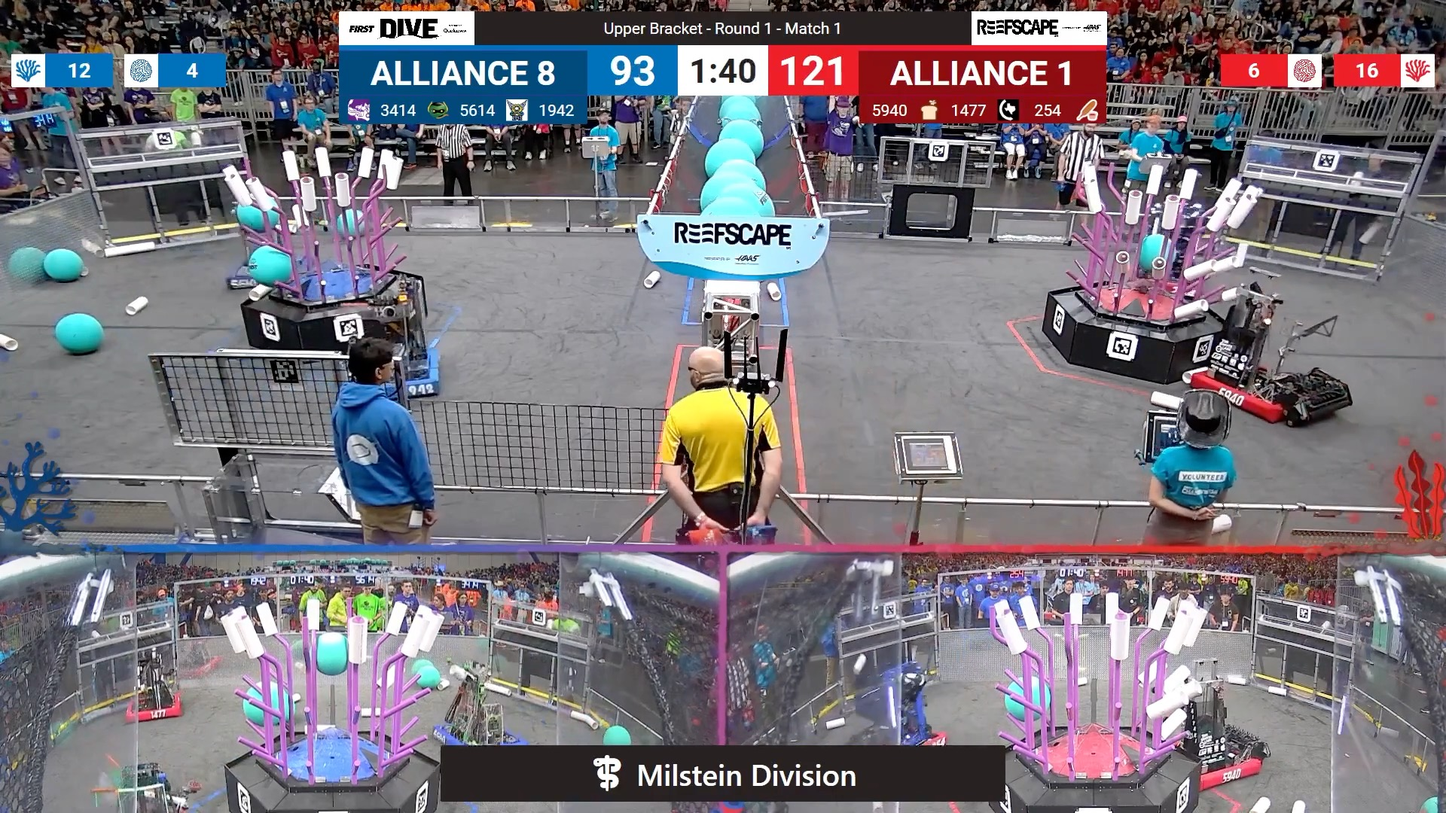bumpers: (1187, 363, 1347, 433), (1172, 741, 1274, 792), (222, 251, 306, 293), (426, 718, 533, 750), (834, 716, 949, 744), (120, 687, 194, 726), (395, 343, 449, 396)
